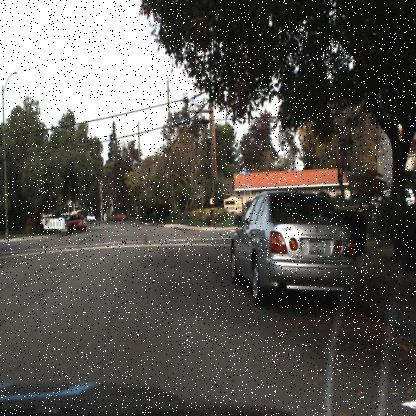car: (227, 189, 362, 311), (65, 210, 85, 233)
